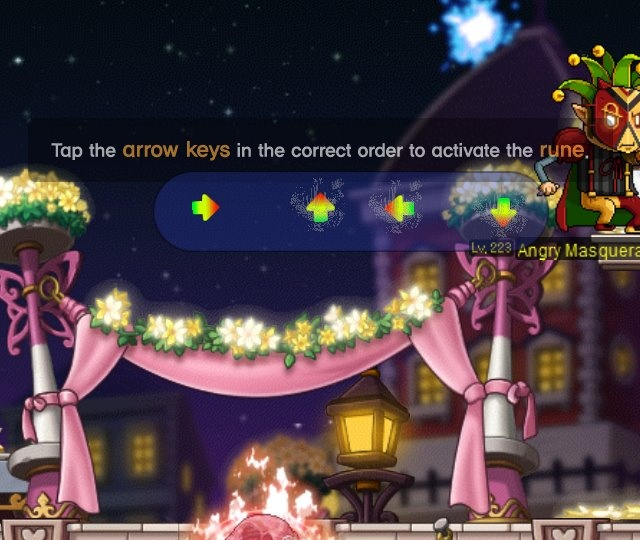rune_box: (144, 161, 562, 268)
